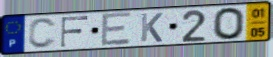2: (181, 8, 208, 44)
C: (27, 17, 59, 50)
E: (100, 11, 133, 48)
F: (59, 15, 91, 49)
K: (139, 12, 164, 43)
O: (212, 6, 247, 41)
